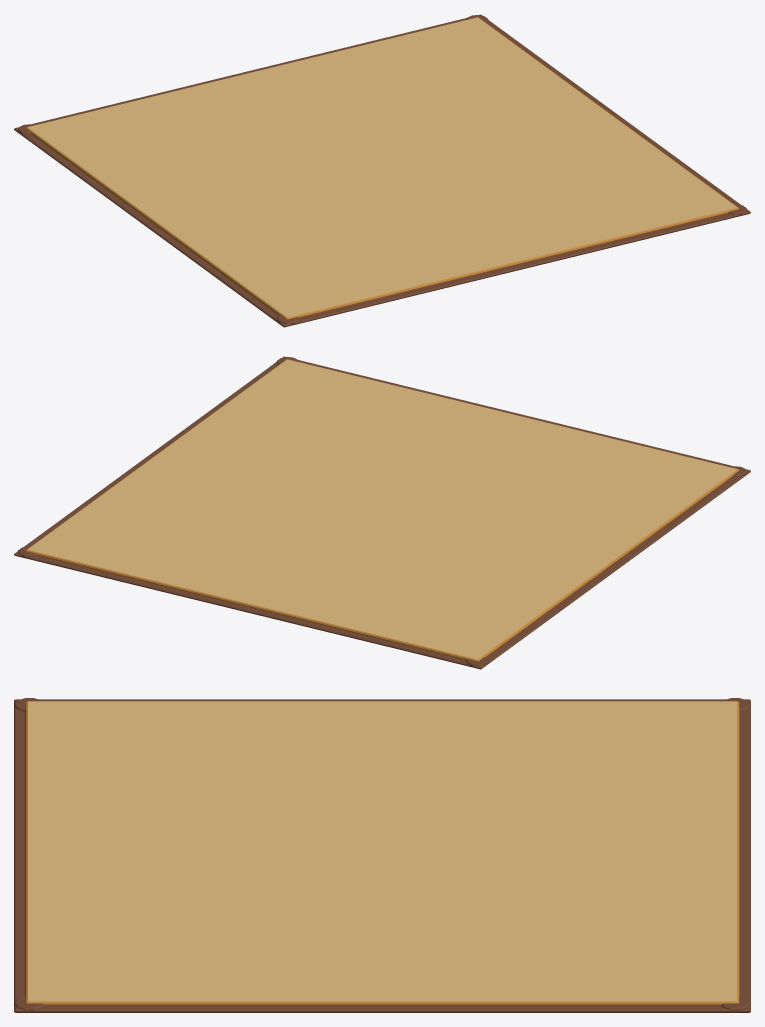
Rendered from tabuleiro-gomoku.gltf.
The picture shows the model from 3 angles, top to bottom: view 1: azimuth 30°, elevation 25°; view 2: azimuth 150°, elevation 25°; view 3: azimuth 270°, elevation 25°; orthographic projection. The views are drawn at different scales.
Parts seen in each view (by area): view 1: tabuleiro-gomoku; view 2: tabuleiro-gomoku; view 3: tabuleiro-gomoku.
Boxes of the visible parts, x1,y1,x2,y2 form: tabuleiro-gomoku: (14, 14, 750, 327); tabuleiro-gomoku: (14, 356, 750, 669); tabuleiro-gomoku: (14, 698, 750, 1012).
Bounding box in the file's own units: 16.5 × 0.24 × 16.5.
Materials: 2 (1 with a texture image).
